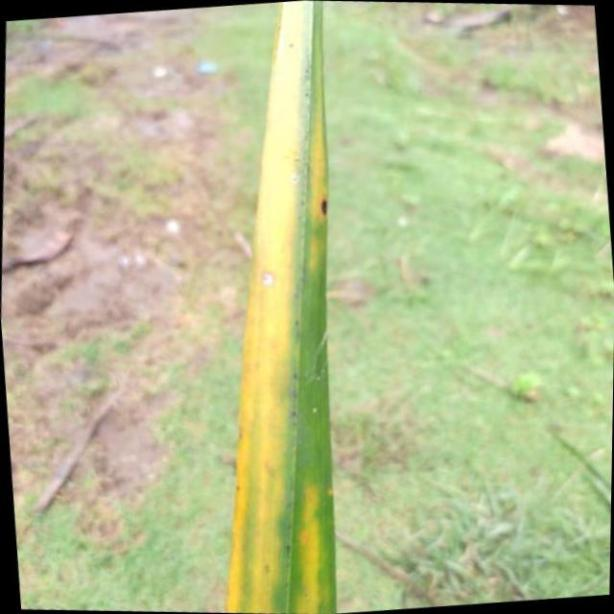Megnesium: (229, 0, 331, 614)
